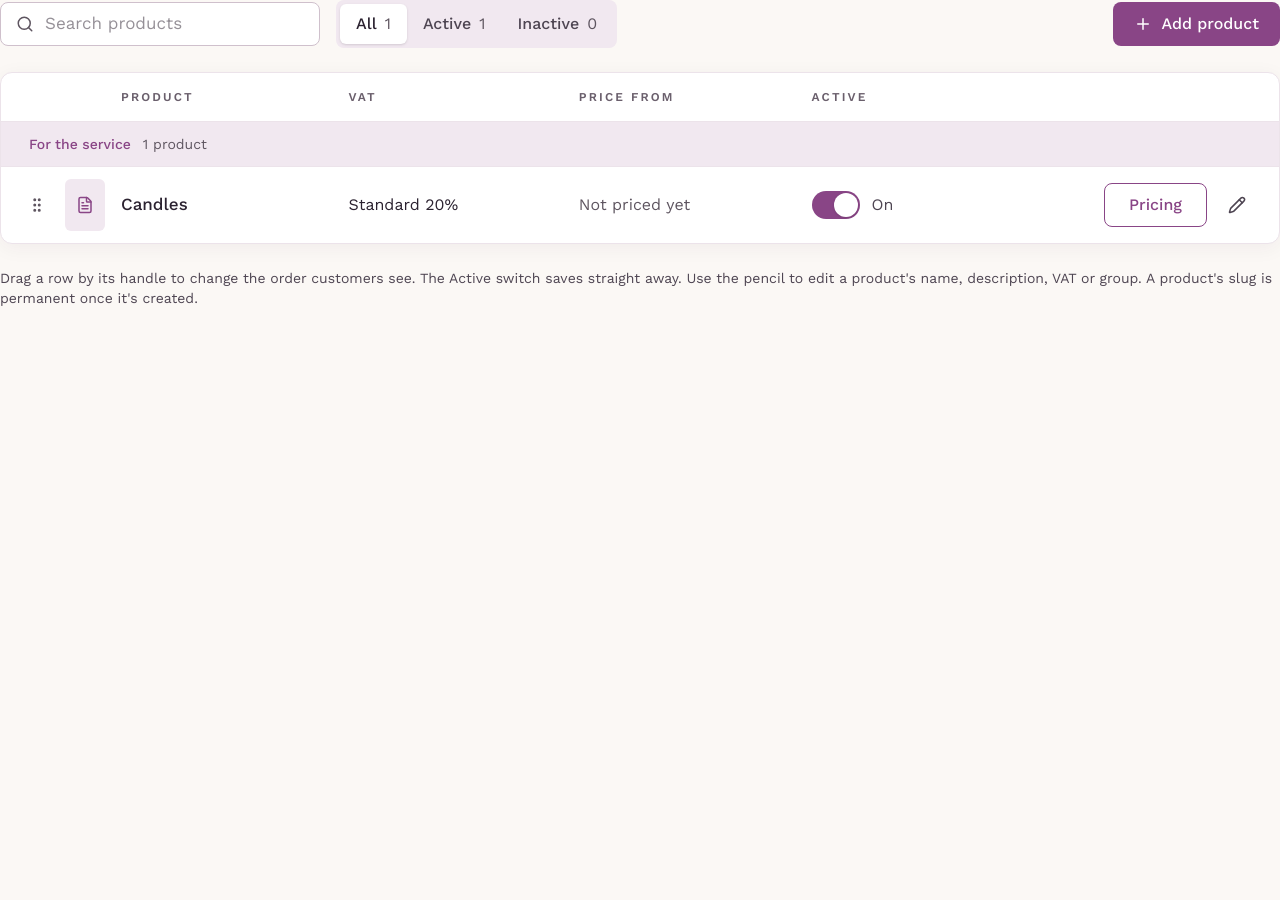
it: AdminProductsManager › says an active product customers can't see yet is waiting on pricing
Click the button named "Edit Candles".
click(1237, 205)  # box [1215,183,1259,227]
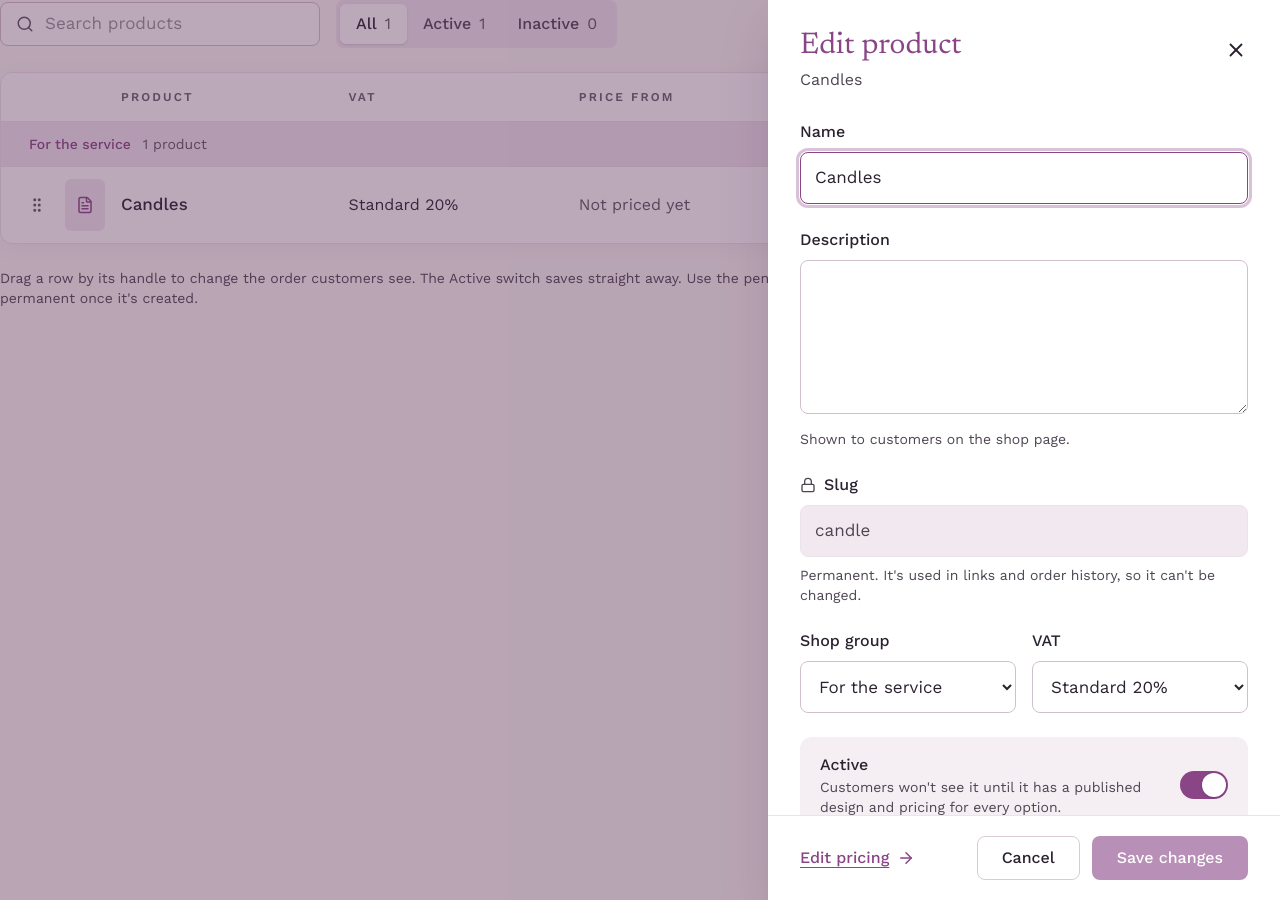
Expected: the text "Customers won't see it until it has a published design and pricing for every option." is shown, [820,778,1141,814]
